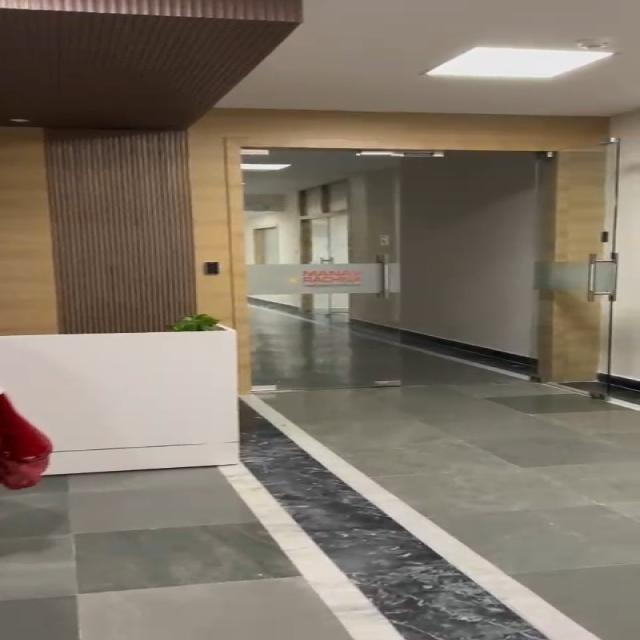door: (219, 121, 631, 419)
floor: (0, 498, 640, 639), (256, 397, 640, 496)
wall: (0, 24, 223, 350)
